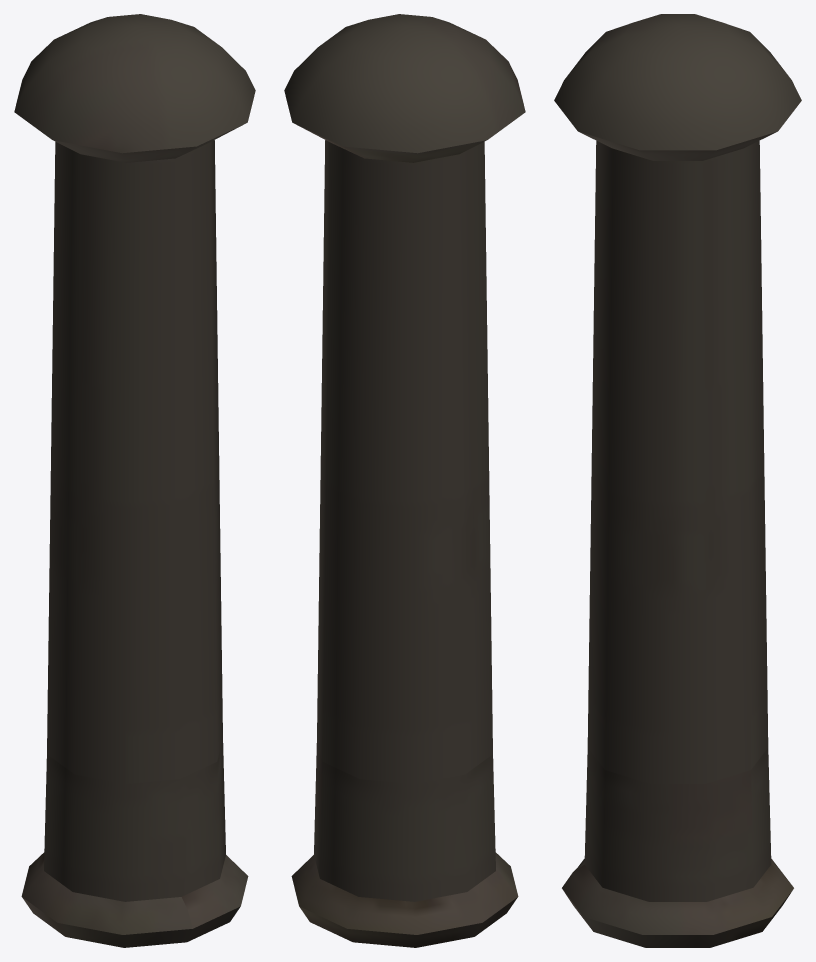
File: Prop_Bollard.glb
3 renders of one model, left to right at view 1: azimuth 30°, elevation 25°; view 2: azimuth 150°, elevation 25°; view 3: azimuth 270°, elevation 25°, orthographic.
Visible parts, largest first — view 1: Prop_Bollard; view 2: Prop_Bollard; view 3: Prop_Bollard.
Part boxes in pixels (x1=…): Prop_Bollard: x1=14, y1=14, x2=255, y2=947; Prop_Bollard: x1=284, y1=14, x2=525, y2=947; Prop_Bollard: x1=554, y1=14, x2=801, y2=947.
Size of the model in its own units: 0.2162 by 0.8918 by 0.2274.
Materials: 1 (1 with a texture image).
